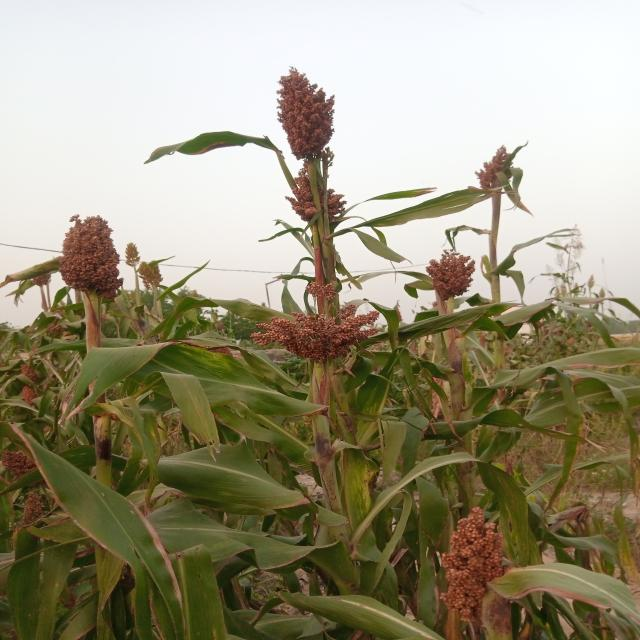RipeSorghum: (39, 209, 144, 316)
